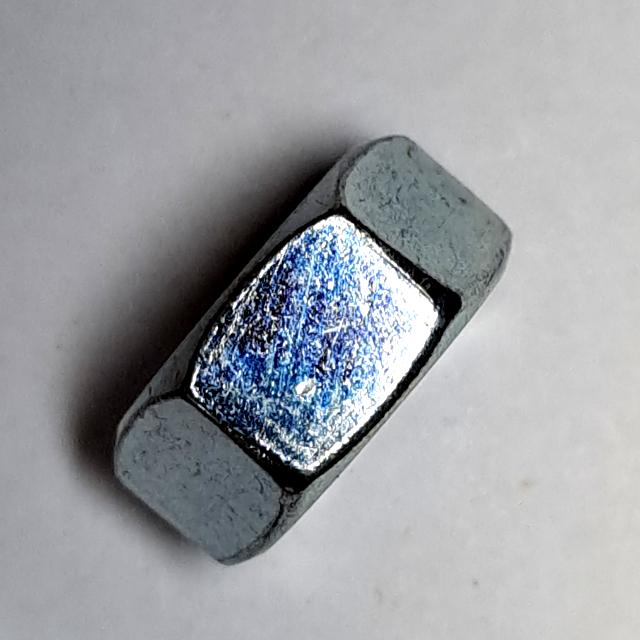Side_Excellent: (96, 126, 525, 576)
